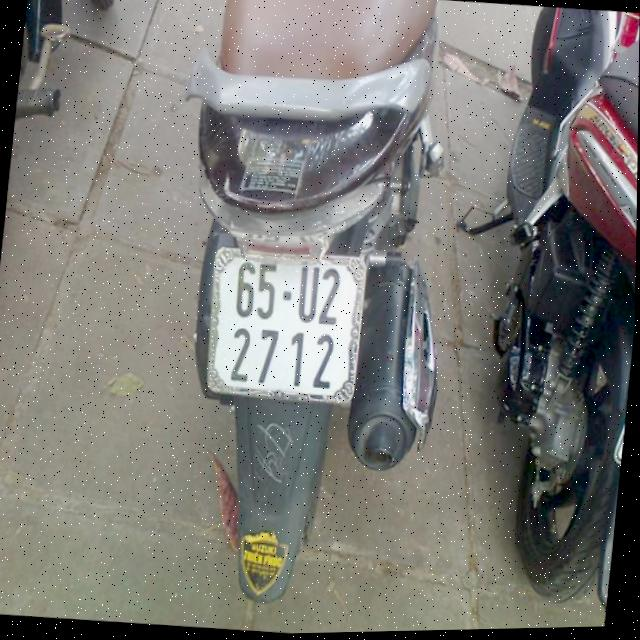motorcycle: (142, 0, 480, 614), (442, 2, 640, 606)
plate: (195, 237, 374, 413)
